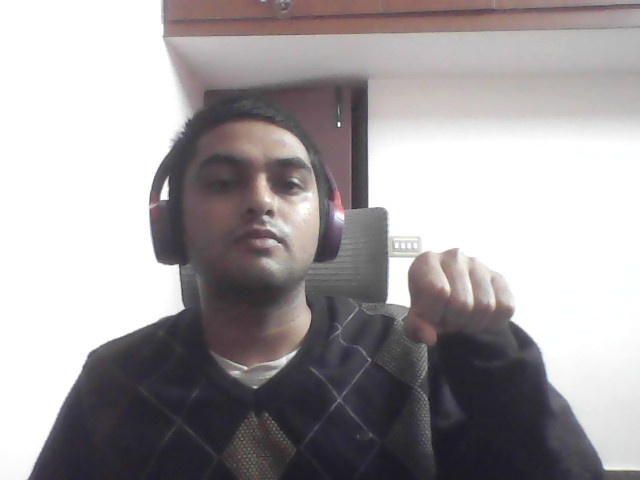Yes: (372, 221, 548, 404)
